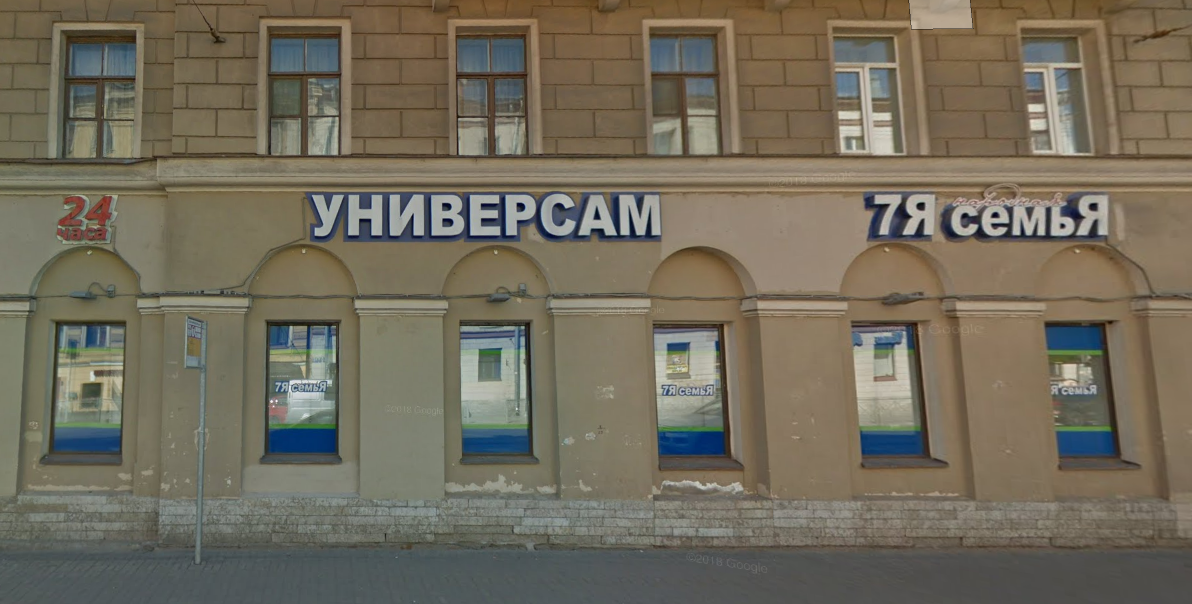signboard: (299, 179, 677, 244), (860, 182, 1115, 248), (56, 184, 123, 248)
window: (263, 322, 345, 466), (42, 319, 125, 461), (457, 323, 535, 465), (853, 329, 925, 465), (1019, 34, 1099, 155), (63, 35, 142, 157), (453, 34, 527, 160), (662, 322, 724, 468), (649, 31, 721, 156), (1055, 322, 1114, 470), (270, 28, 338, 152), (831, 40, 897, 153)
